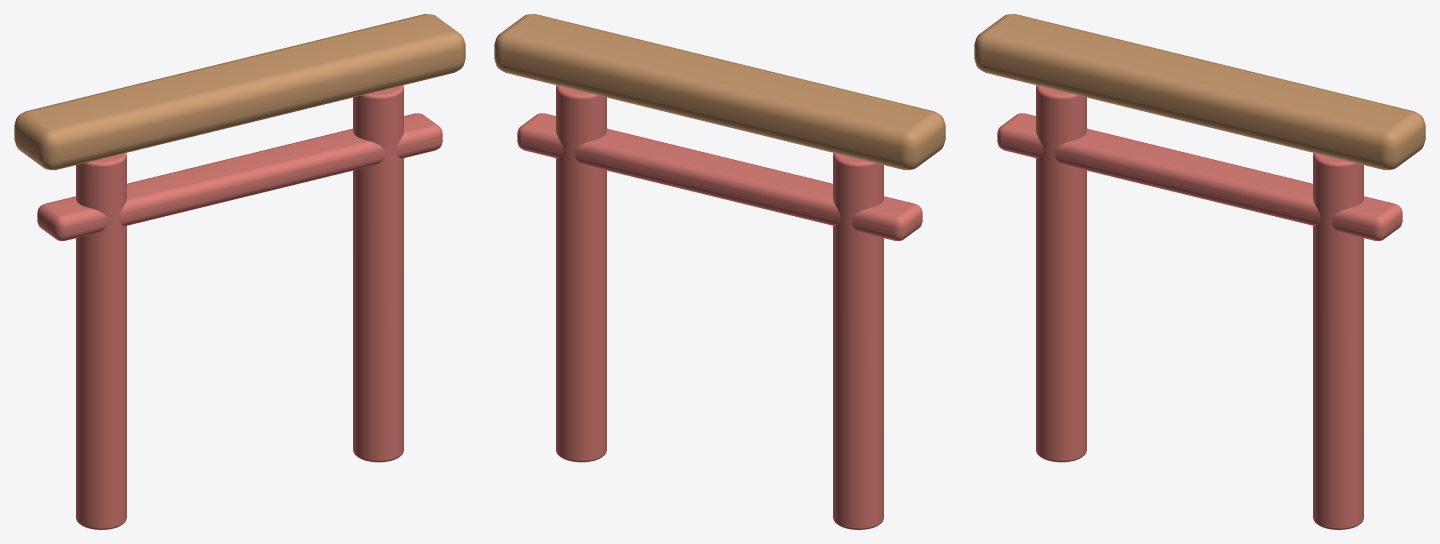
File: japaneseToriGate.glb
3 renders of one model, left to right at view 1: azimuth 30°, elevation 25°; view 2: azimuth 150°, elevation 25°; view 3: azimuth 330°, elevation 25°, orthographic.
Parts seen in each view (by area): view 1: Gate lintel, Gate pillar, Gate pillar.001, Gate crossbeam; view 2: Gate lintel, Gate pillar, Gate pillar.001, Gate crossbeam; view 3: Gate lintel, Gate pillar.001, Gate pillar, Gate crossbeam.
Part boxes in pixels (<box>): Gate lintel: <box>14,14,465,170</box>; Gate pillar: <box>76,153,126,529</box>; Gate pillar.001: <box>353,85,403,462</box>; Gate crossbeam: <box>37,113,442,240</box>; Gate lintel: <box>494,14,945,170</box>; Gate pillar: <box>833,153,883,529</box>; Gate pillar.001: <box>556,85,606,462</box>; Gate crossbeam: <box>517,113,922,240</box>; Gate lintel: <box>974,14,1425,170</box>; Gate pillar.001: <box>1313,153,1363,529</box>; Gate pillar: <box>1036,85,1086,462</box>; Gate crossbeam: <box>997,113,1402,240</box>.
Size of the model in its own units: 2.3 by 2.14 by 0.35.
